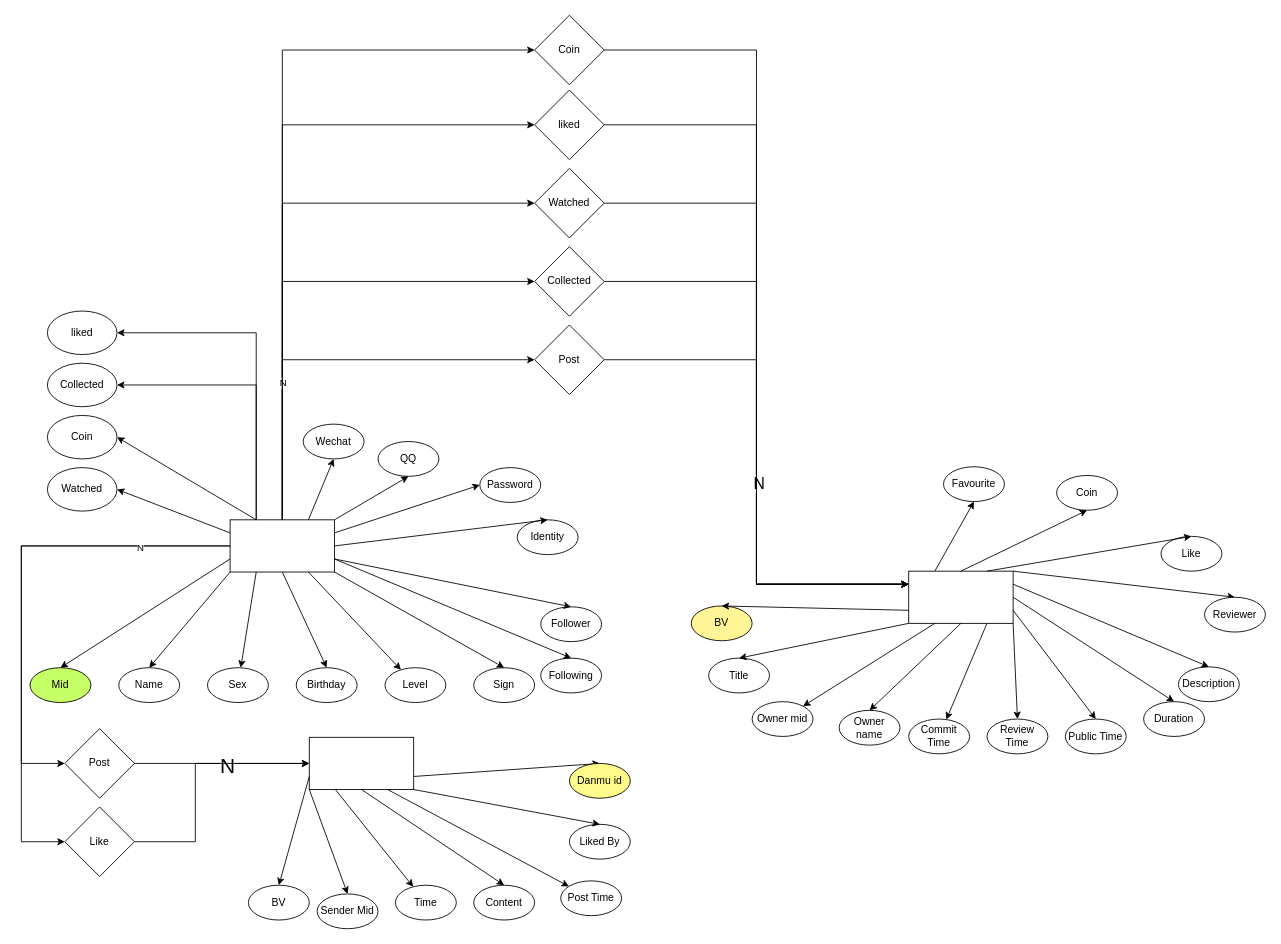
Some shapes in this 1281 by 944 pixel diagram are drawn without their labels. Here are the shapes that lost their labels. From the top down, the box of each, then its label:
(229, 519, 335, 572): User
(908, 570, 1013, 623): Video
(308, 736, 414, 790): danmu
